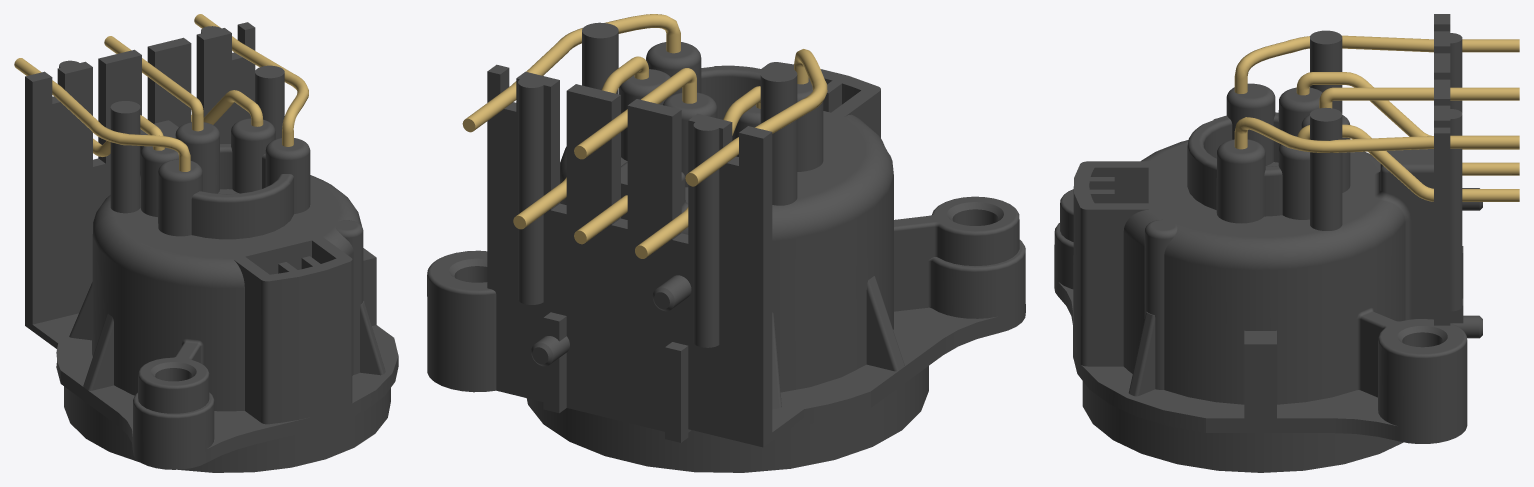
File: Neutrik_NC5MAH.3dmodel.glb
3 renders of one model, left to right at view 1: azimuth 30°, elevation 25°; view 2: azimuth 150°, elevation 25°; view 3: azimuth 270°, elevation 25°, orthographic. The views are drawn at different scales.
Parts seen in each view (by area): view 1: =>[0:1:1:1]; view 2: =>[0:1:1:1]; view 3: =>[0:1:1:1].
Boxes of the visible parts, bbox=[...] form: =>[0:1:1:1]: bbox=[14, 14, 398, 472]; =>[0:1:1:1]: bbox=[427, 14, 1025, 472]; =>[0:1:1:1]: bbox=[1054, 14, 1519, 472].
Size of the model in its own units: 25.23 by 21.7 by 28.5.
